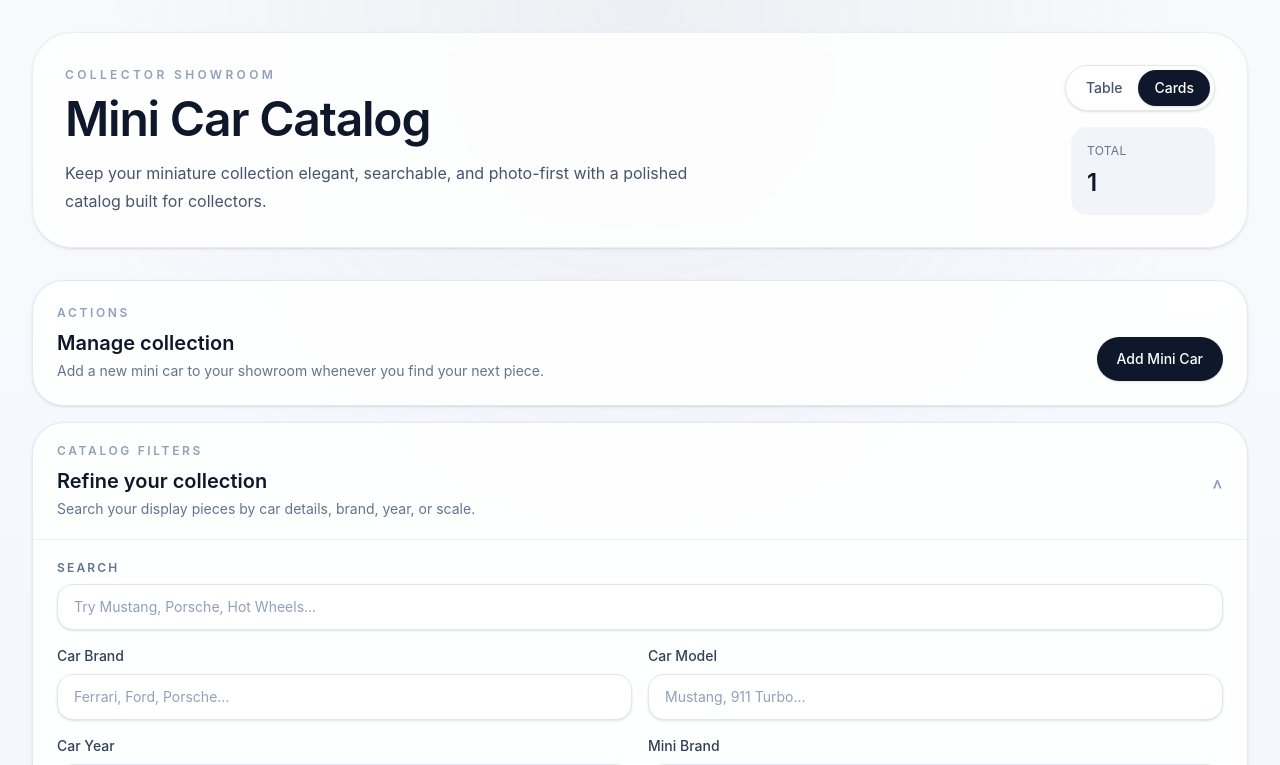
Scenario: App › renders the catalog heading and toggles between table and card views
Check: the heading "Mini Car Catalog" is shown, box 65,89 -> 430,148
Click the button "Table" at [1104, 88], box 1070,70 -> 1138,106
(page scrolled)
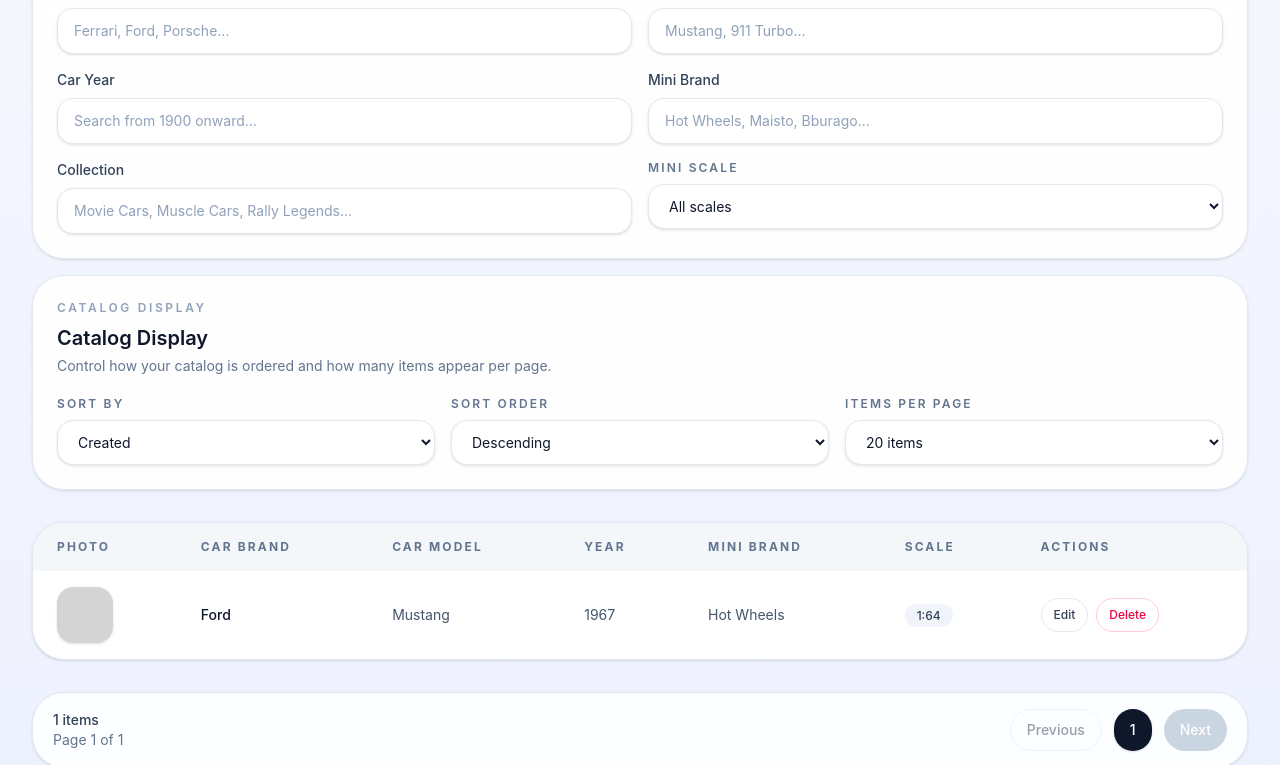
Check: the table is shown, box 33,523 -> 1247,659
